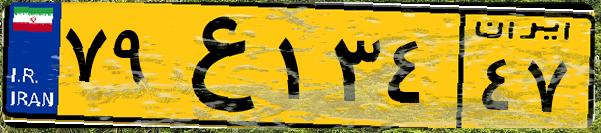1: (270, 28, 330, 110)
3: (330, 28, 385, 110)
4: (385, 28, 445, 110), (475, 38, 525, 113)
7: (57, 26, 110, 100), (525, 38, 570, 115)
9: (110, 28, 158, 98)
ع: (158, 12, 270, 120)
